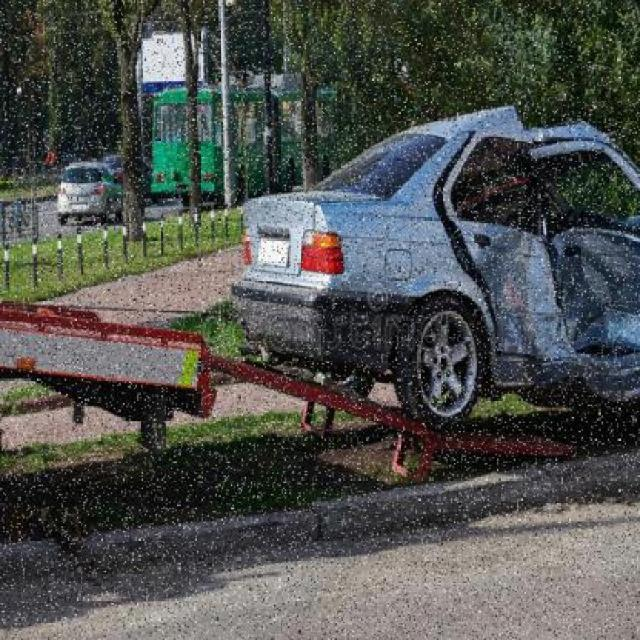RunningBoard-Dent: (489, 357, 600, 401)
doorouter-dent: (465, 223, 557, 360), (557, 229, 639, 359)
roof-dent: (436, 97, 629, 173)
